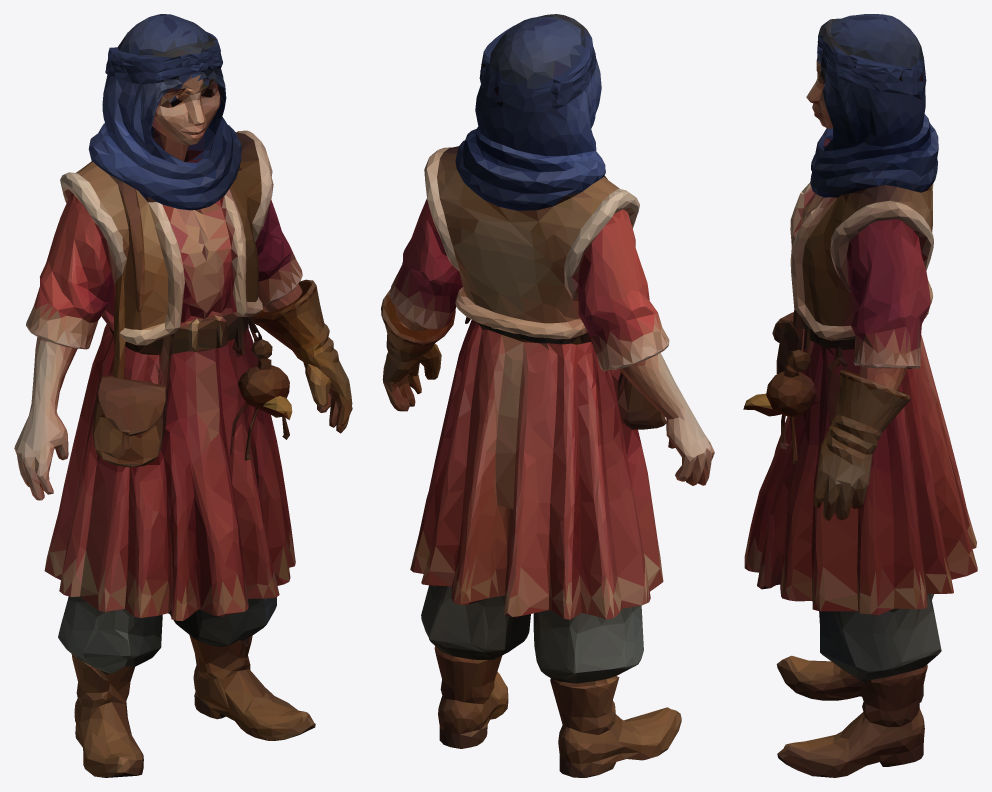
Rendered from nouf_20k.glb.
3 views of the same model, side by side, from view 1: azimuth 30°, elevation 25°; view 2: azimuth 150°, elevation 25°; view 3: azimuth 270°, elevation 25° (orthographic).
Parts seen in each view (by area): view 1: Nouf; view 2: Nouf; view 3: Nouf.
Boxes of the visible parts, left/top/right/bottom form: Nouf: left=14, top=14, right=352, bottom=777; Nouf: left=381, top=14, right=714, bottom=777; Nouf: left=743, top=14, right=977, bottom=777.
Bounding box in the file's own units: 0.7768 × 1.65 × 0.495.
